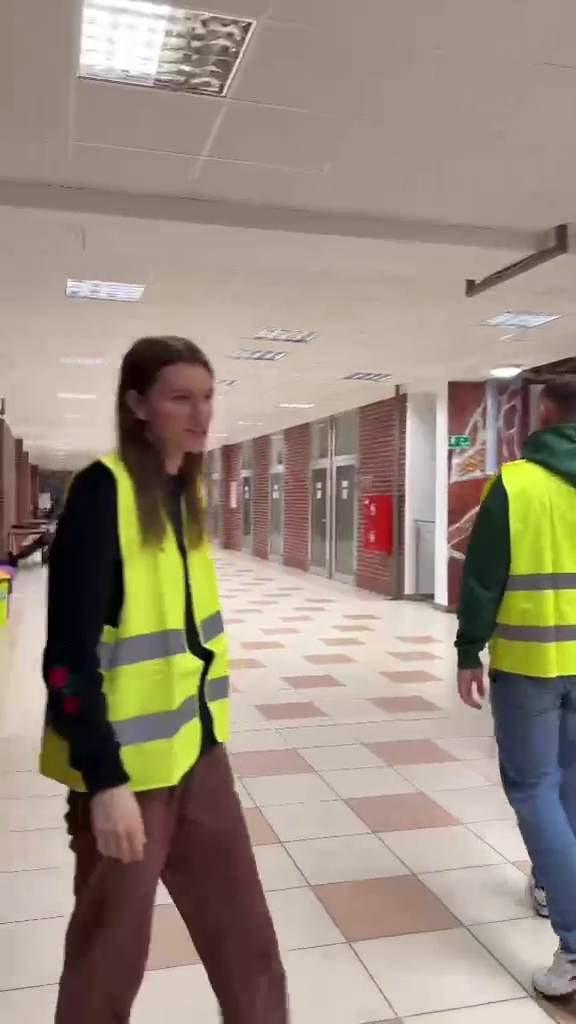vest: (45, 338, 308, 1010), (448, 371, 576, 994)
